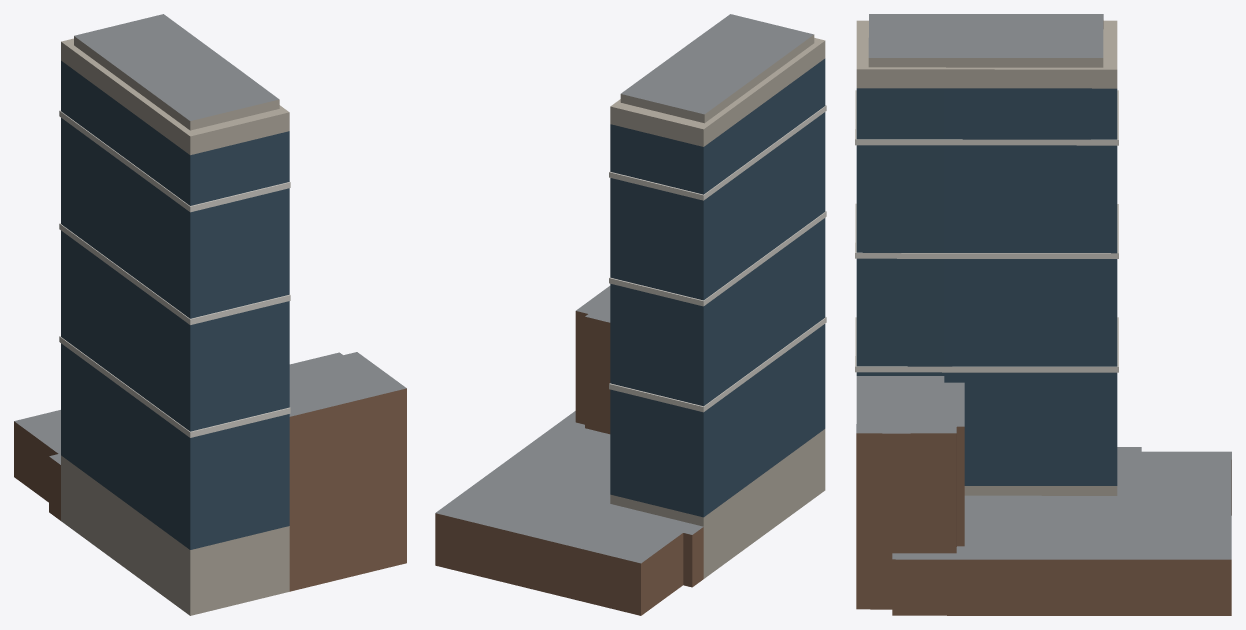
File: the_worthington.glb
3 views of the same model, side by side, from view 1: azimuth 30°, elevation 25°; view 2: azimuth 150°, elevation 25°; view 3: azimuth 270°, elevation 25° (orthographic). The views are drawn at different scales.
Visible parts, largest first — view 1: The_Worthington; view 2: The_Worthington; view 3: The_Worthington.
Part boxes in pixels (<box>): The_Worthington: <box>14,14,406,615</box>; The_Worthington: <box>435,14,826,615</box>; The_Worthington: <box>855,14,1231,615</box>.
Bounding box in the file's own units: 51.32 × 104 × 72.16.
